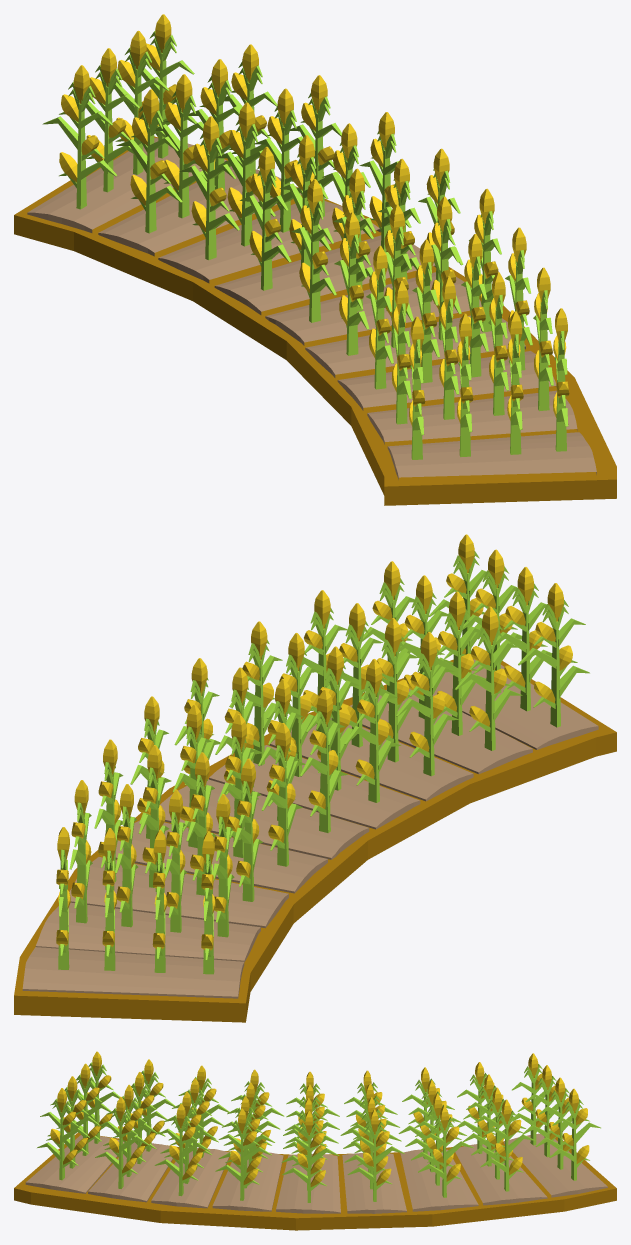
3 views of the same model, one above another, from view 1: azimuth 30°, elevation 25°; view 2: azimuth 150°, elevation 25°; view 3: azimuth 270°, elevation 25° (orthographic). The views are drawn at different scales.
Parts seen in each view (by area): view 1: Cylinder.050, Object_3.002, Object_3.006, Object_3.010, Object_3.038, Object_3.007, Object_3.003, Object_3.042, Object_3.011, Object_3.013, Object_3.046, Object_3.050 (+25 smaller); view 2: Cylinder.050, Object_3.058, Object_3.054, Object_3.050, Object_3.046, Object_3.059, Object_3.055, Object_3.042, Object_3.038, Object_3.049, Object_3.051, Object_3.052 (+25 smaller); view 3: Cylinder.050, Object_3.009, Object_3.037, Object_3.005, Object_3.057, Object_3.053, Object_3.041, Object_3.061, Object_3.049, Object_3.045, Object_3.004, Object_3.002 (+25 smaller).
Boxes of the visible parts, box(x1,y1,x2,y2) form: Cylinder.050: box(14, 136, 616, 505); Object_3.002: box(42, 65, 117, 209); Object_3.006: box(116, 89, 182, 233); Object_3.010: box(179, 116, 239, 260); Object_3.038: box(240, 146, 291, 290); Object_3.007: box(155, 74, 215, 218); Object_3.003: box(86, 48, 139, 192); Object_3.042: box(291, 179, 336, 322); Object_3.011: box(215, 102, 275, 246); Object_3.013: box(254, 88, 302, 232); Object_3.046: box(334, 212, 369, 355); Object_3.050: box(366, 245, 393, 389); Cylinder.050: box(14, 650, 616, 1022); Object_3.058: box(518, 583, 589, 727); Object_3.054: box(454, 606, 522, 750); Object_3.050: box(396, 632, 458, 776); Object_3.046: box(344, 659, 401, 802); Object_3.059: box(495, 567, 551, 711); Object_3.055: box(422, 591, 486, 735); Object_3.042: box(300, 689, 347, 832); Object_3.038: box(261, 723, 302, 866); Object_3.049: box(229, 621, 282, 765); Object_3.051: box(362, 618, 419, 762); Object_3.052: box(324, 603, 386, 747); Cylinder.050: box(14, 1132, 616, 1230); Object_3.009: box(480, 1099, 535, 1191); Object_3.037: box(418, 1105, 473, 1197); Object_3.005: box(549, 1088, 600, 1180); Object_3.057: box(95, 1096, 149, 1188); Object_3.053: box(154, 1104, 210, 1196); Object_3.041: box(347, 1109, 404, 1201); Object_3.061: box(37, 1088, 89, 1180); Object_3.049: box(215, 1108, 271, 1200); Object_3.045: box(282, 1111, 339, 1202); Object_3.004: box(535, 1077, 587, 1169); Object_3.002: box(511, 1053, 545, 1145).
Bounding box in the file's own units: 1513 × 867 × 4443.
